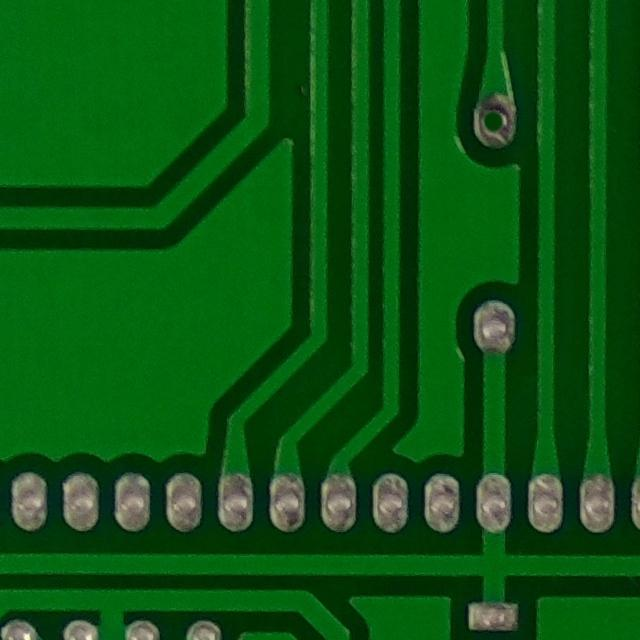missing_hole: (466, 88, 527, 154)
